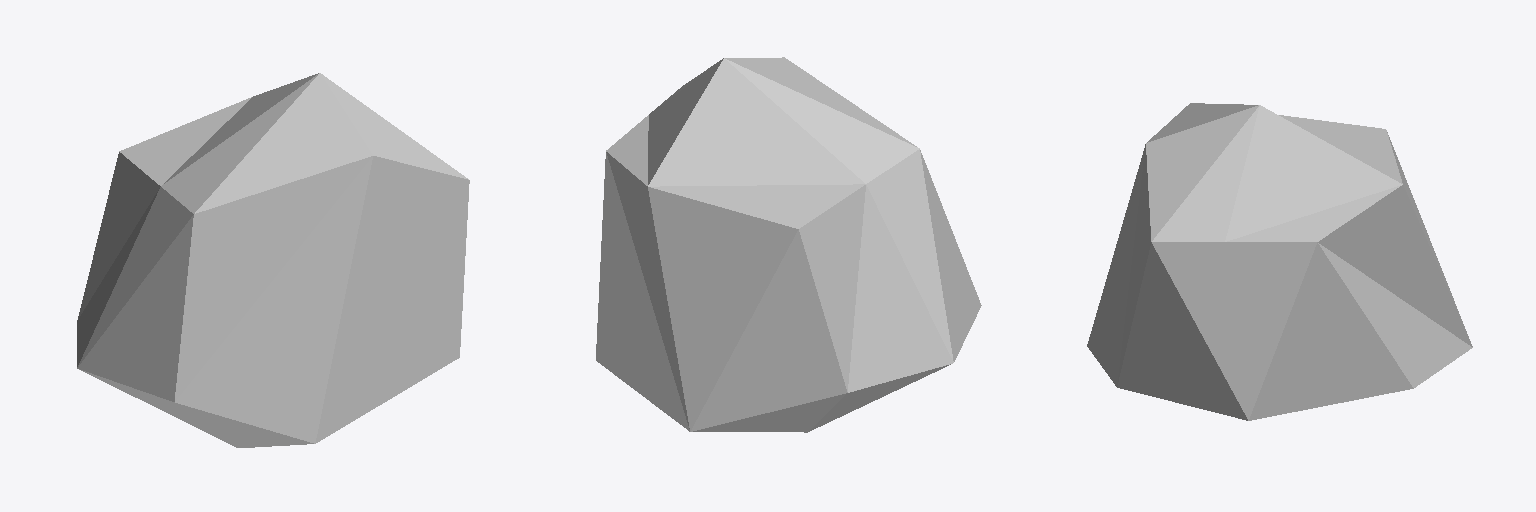
Rendered from model_pillar_5.obj.
The picture shows the model from 3 angles: view 1: azimuth 30°, elevation 25°; view 2: azimuth 150°, elevation 25°; view 3: azimuth 270°, elevation 25°; orthographic projection.
Parts seen in each view (by area): view 1: pCube1; view 2: pCube1; view 3: pCube1.
Part boxes in pixels (bbox=[...]): pCube1: bbox=[77, 73, 469, 447]; pCube1: bbox=[596, 57, 981, 432]; pCube1: bbox=[1087, 103, 1472, 420].
Bounding box in the file's own units: 5.37 × 4.99 × 4.92.